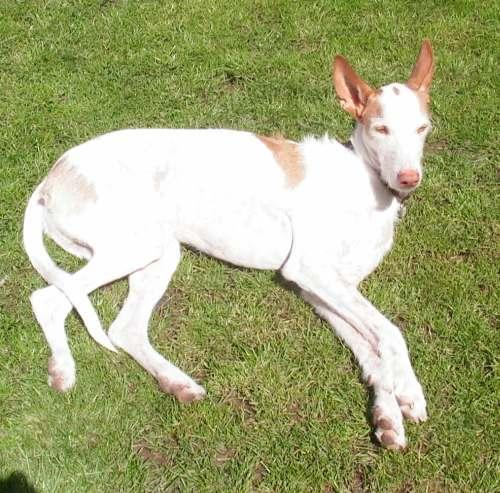Ibizan_hound: (22, 39, 437, 449)
